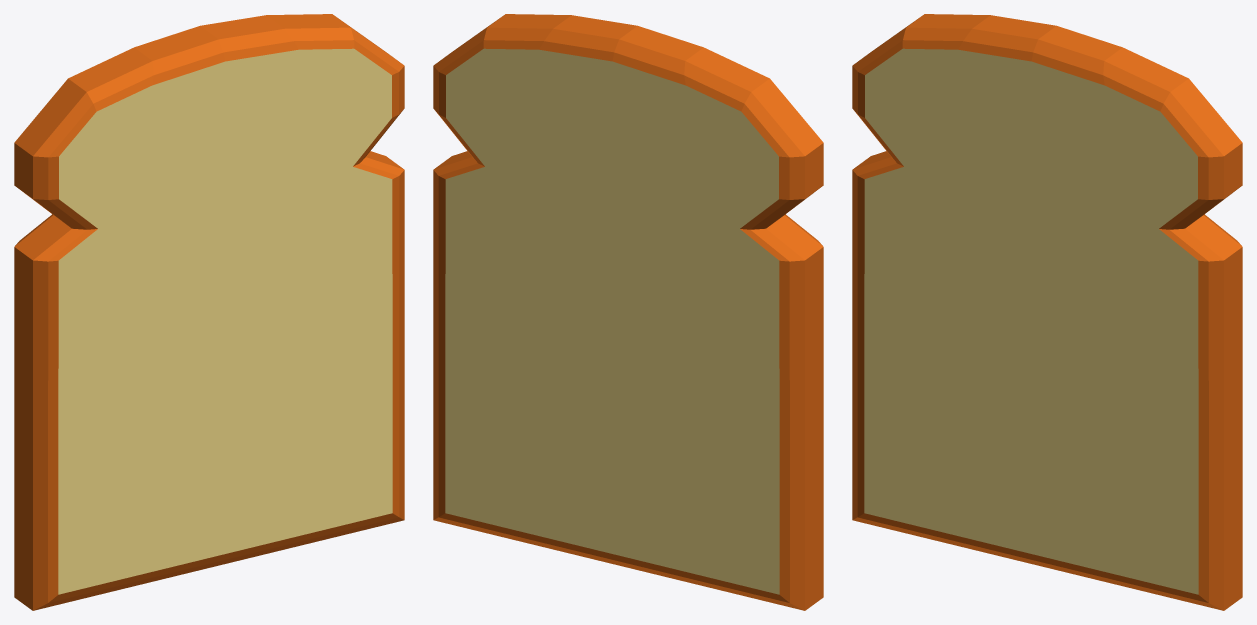
Rendered from TOSTADA_ANASTASIA.fbx.
3 renders of one model, left to right at view 1: azimuth 30°, elevation 25°; view 2: azimuth 150°, elevation 25°; view 3: azimuth 330°, elevation 25°, orthographic.
Visible parts, largest first — view 1: Cube; view 2: Cube; view 3: Cube.
Boxes of the visible parts, x1,y1,x2,y2 form: Cube: [14, 14, 404, 610]; Cube: [433, 14, 823, 610]; Cube: [852, 14, 1242, 610].
Size of the model in its own units: 208 by 281 by 31.
